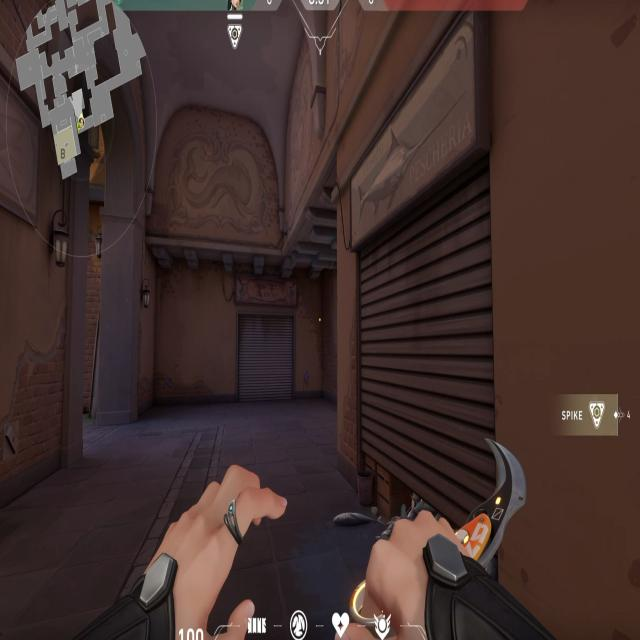B_Main_Corner: (334, 85, 532, 507)
